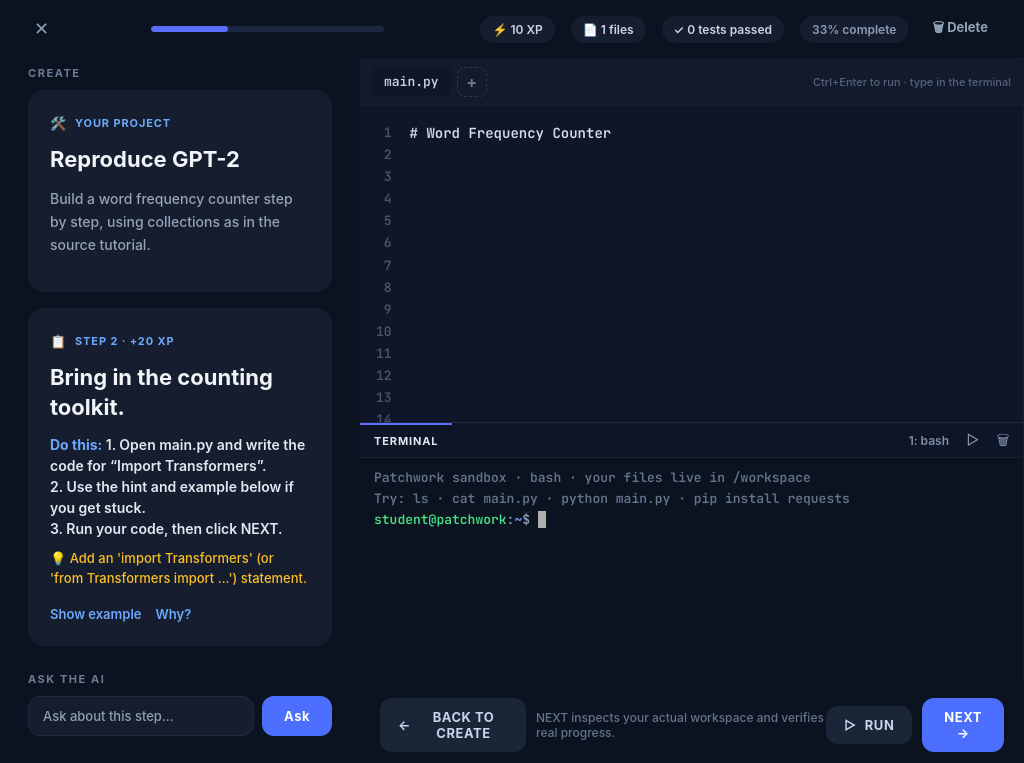
Test case: ProjectWorkspace › does not render a persisted caption dump in the description or Why (defense)
Click the button "Why?".
click(173, 614)  # box [156,602,191,626]
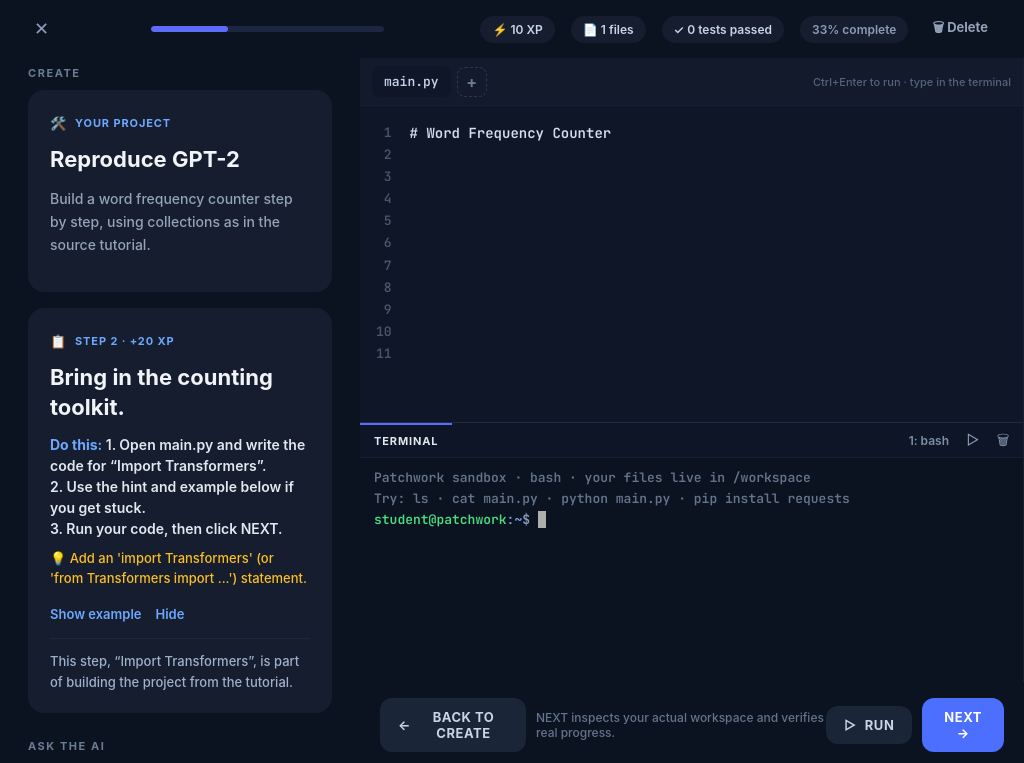
Expected: the text "part of building the project from the tutorial" is shown, [50,653,299,690]
